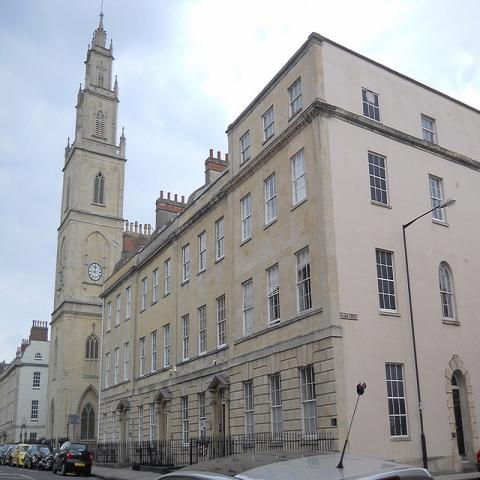car: (52, 442, 92, 476), (22, 444, 53, 469), (12, 444, 30, 468), (4, 445, 17, 466), (1, 444, 10, 464)
